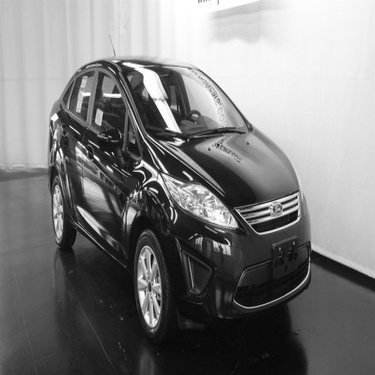car: (40, 46, 314, 340)
